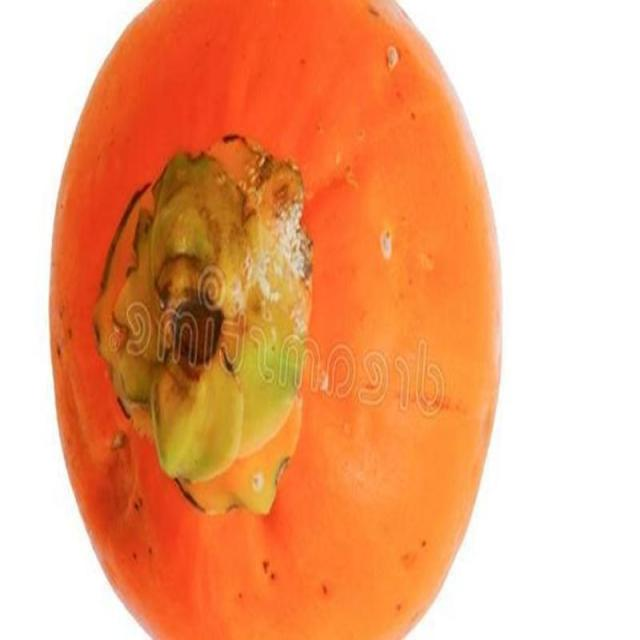good: (48, 0, 505, 639)
